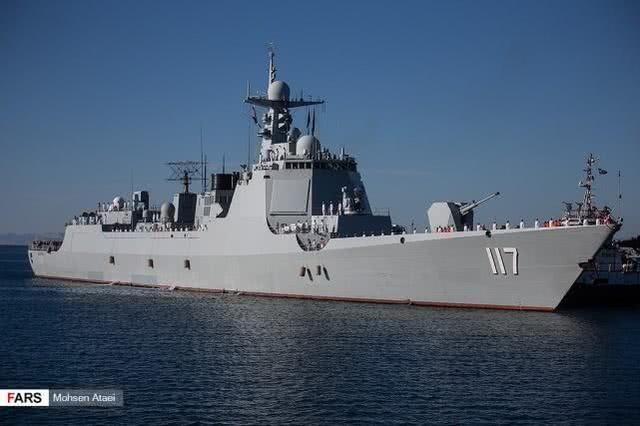warship: (25, 39, 619, 311)
